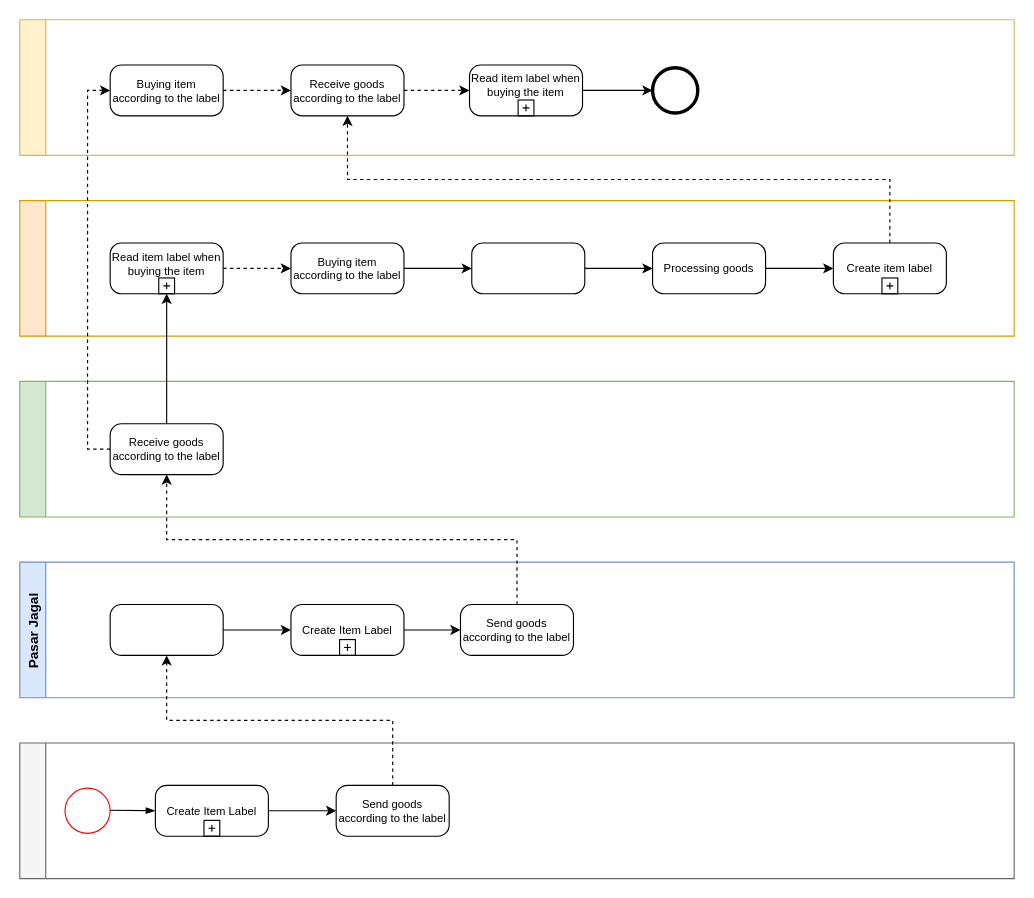
Some shapes in this 1034 by 898 pixel diagram are drawn without their labels. Here are the shapes that lost their labels. From the top down, the box of each, then its label:
(19, 19, 1014, 155): Pelanggan
(19, 199, 1014, 336): Restoran
(471, 242, 585, 294): Receive goods according to lhe label
(19, 380, 1014, 517): Retail
(109, 603, 223, 655): Receive goods acconrding to the label
(19, 742, 1014, 879): Peternak
